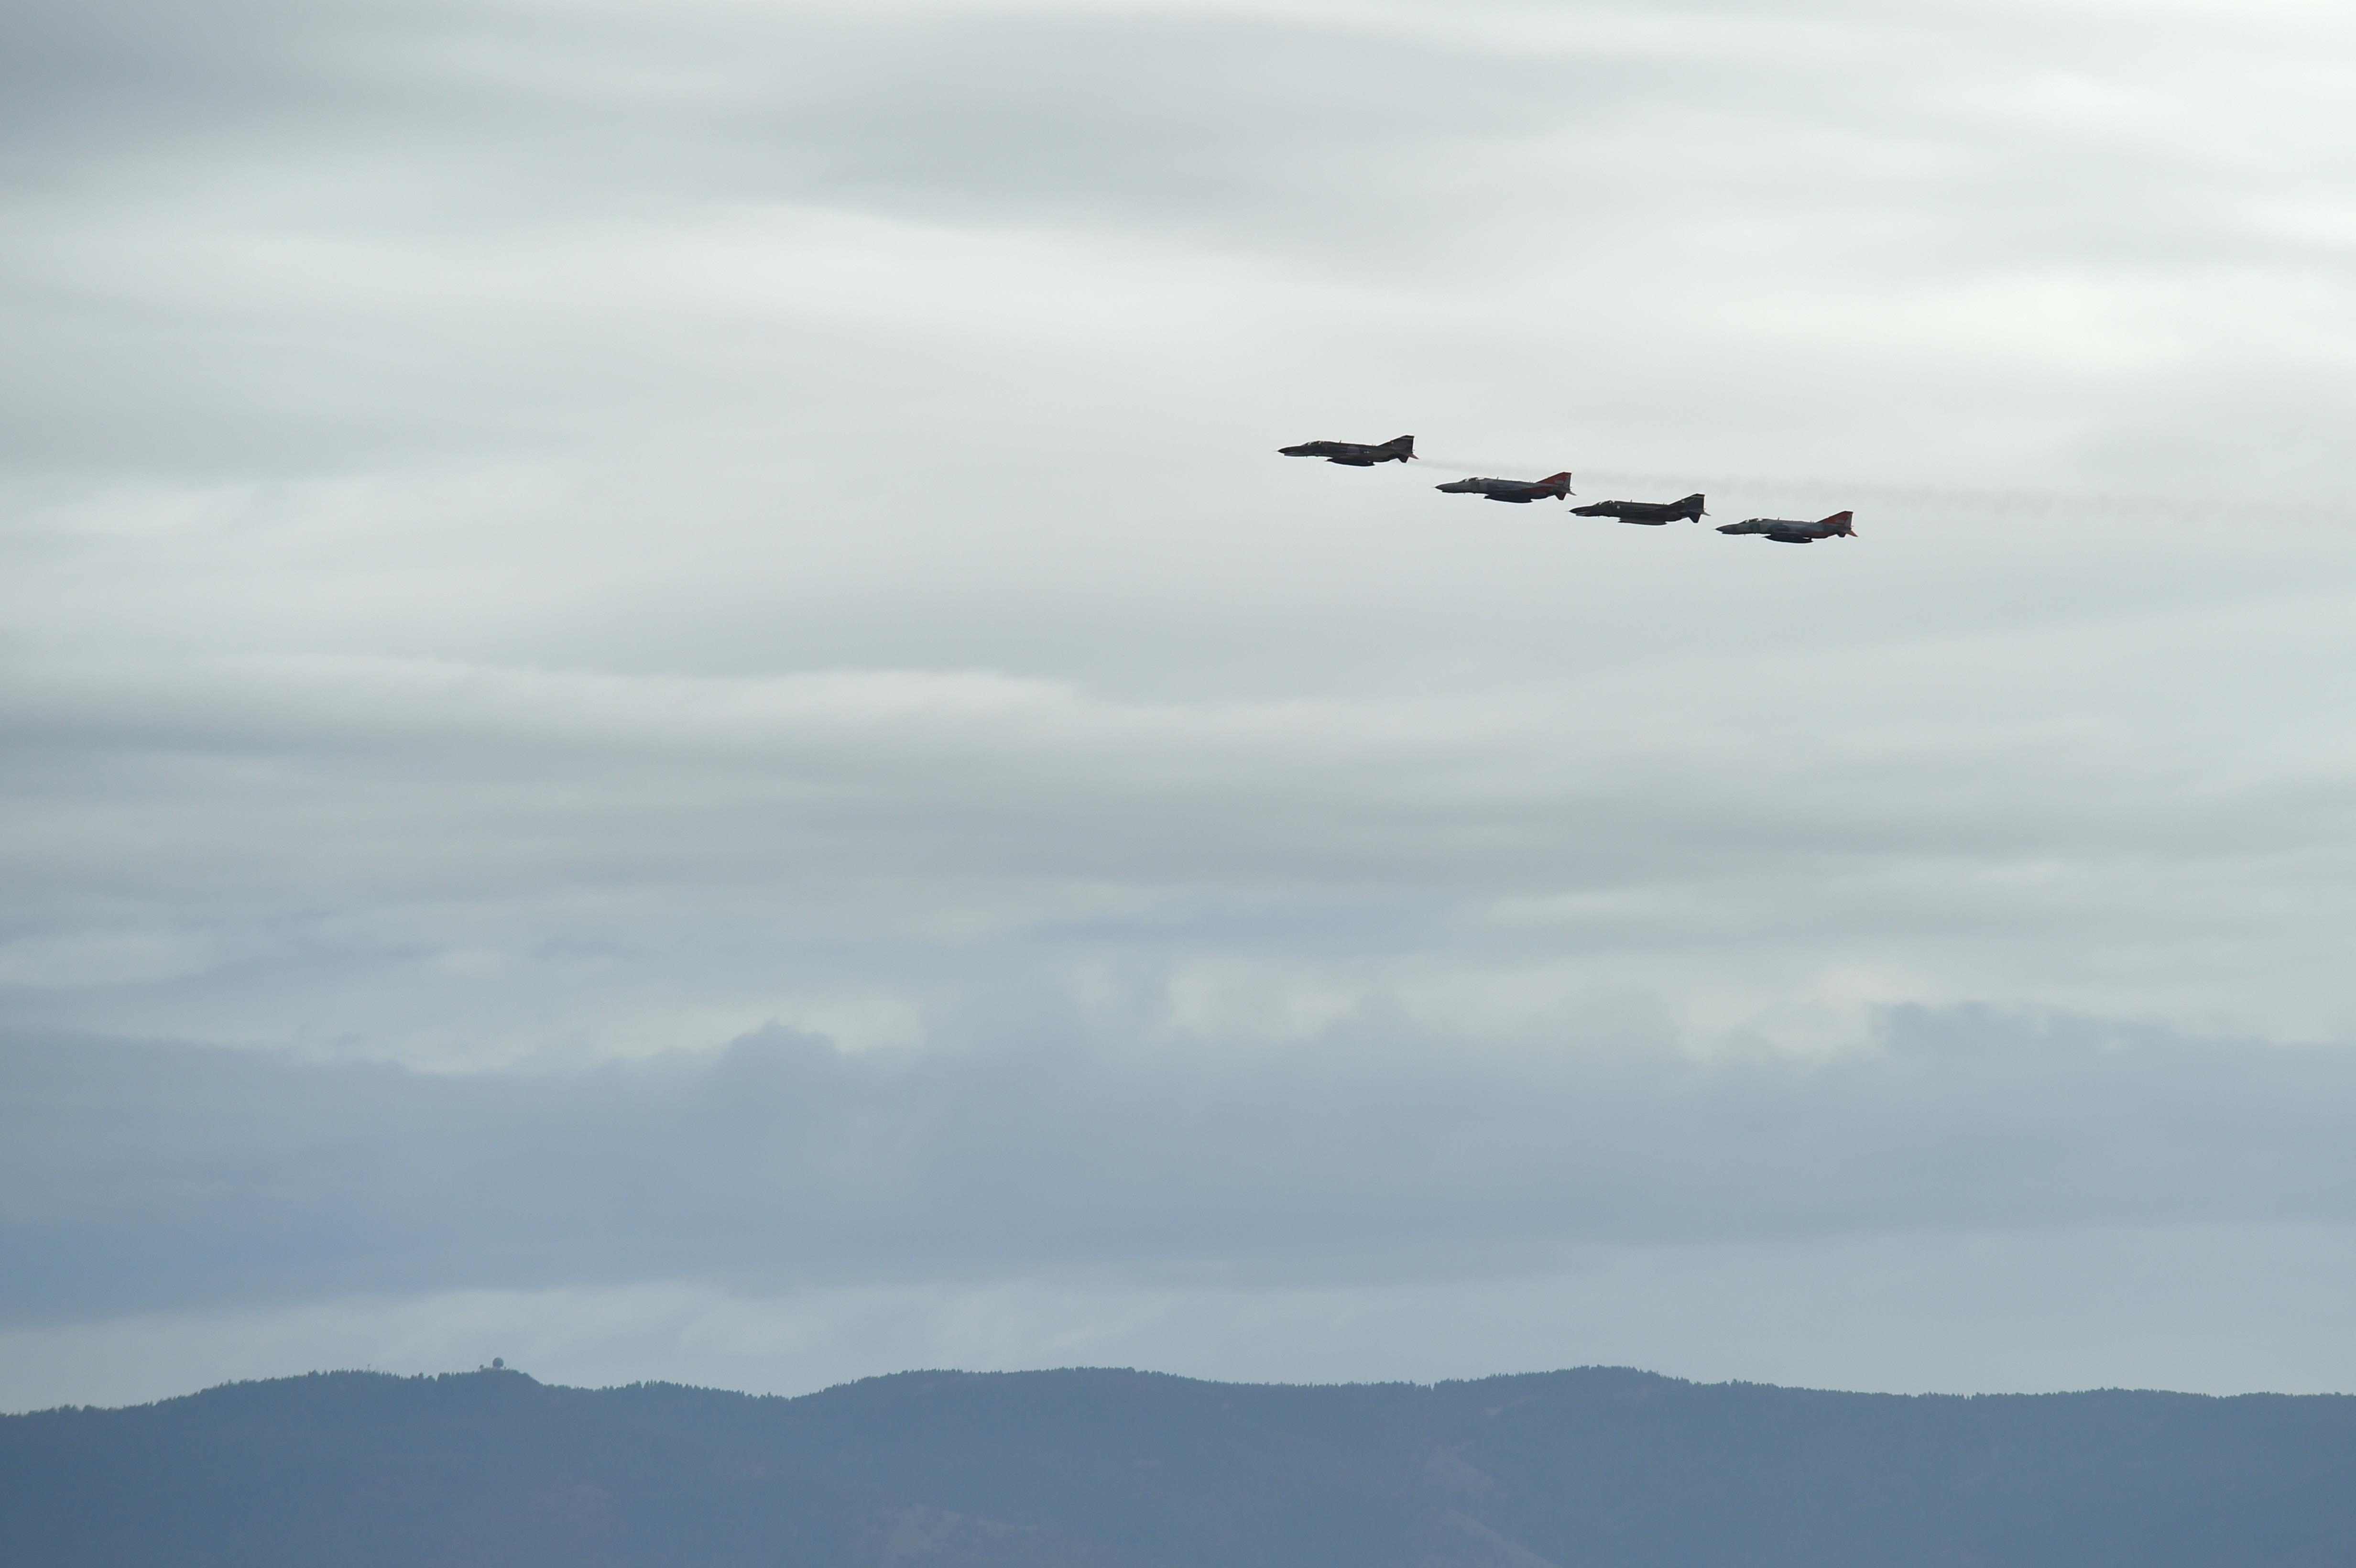F4: (1710, 511, 1859, 544), (1273, 434, 1420, 467), (1430, 471, 1577, 504), (1565, 493, 1712, 525)
